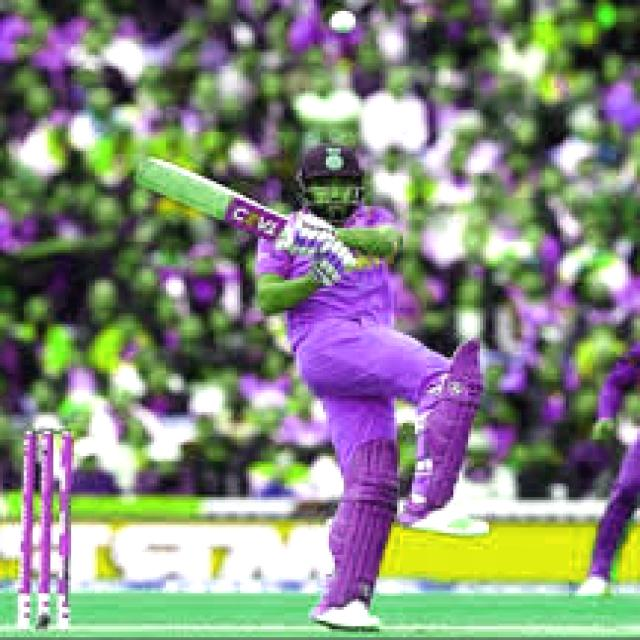toe: (127, 156, 166, 187)
